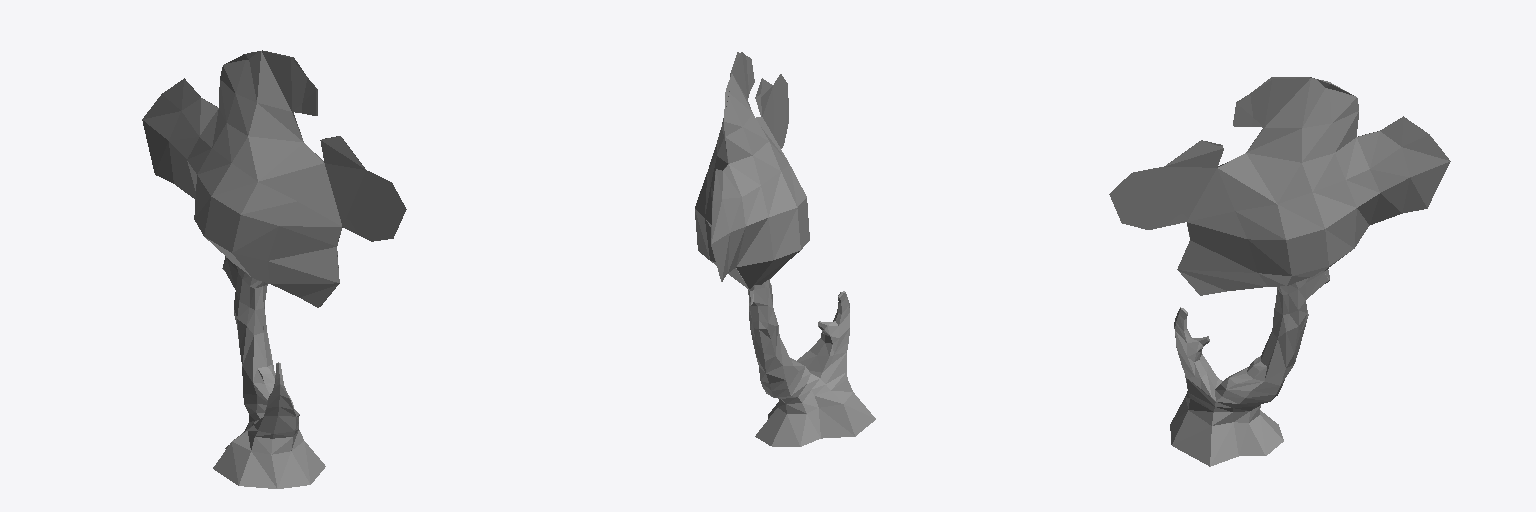
File: tree5.obj
3 renders of one model, left to right at view 1: azimuth 30°, elevation 25°; view 2: azimuth 150°, elevation 25°; view 3: azimuth 270°, elevation 25°, orthographic.
Visible parts, largest first — view 1: juniper_2_twist.001_Cube.010; view 2: juniper_2_twist.001_Cube.010; view 3: juniper_2_twist.001_Cube.010.
Boxes of the visible parts, box(x1,y1,x2,y2) form: juniper_2_twist.001_Cube.010: box(142, 50, 406, 488); juniper_2_twist.001_Cube.010: box(695, 52, 875, 446); juniper_2_twist.001_Cube.010: box(1109, 77, 1450, 466).
Bounding box in the file's own units: 6.24 × 17.64 × 14.1.